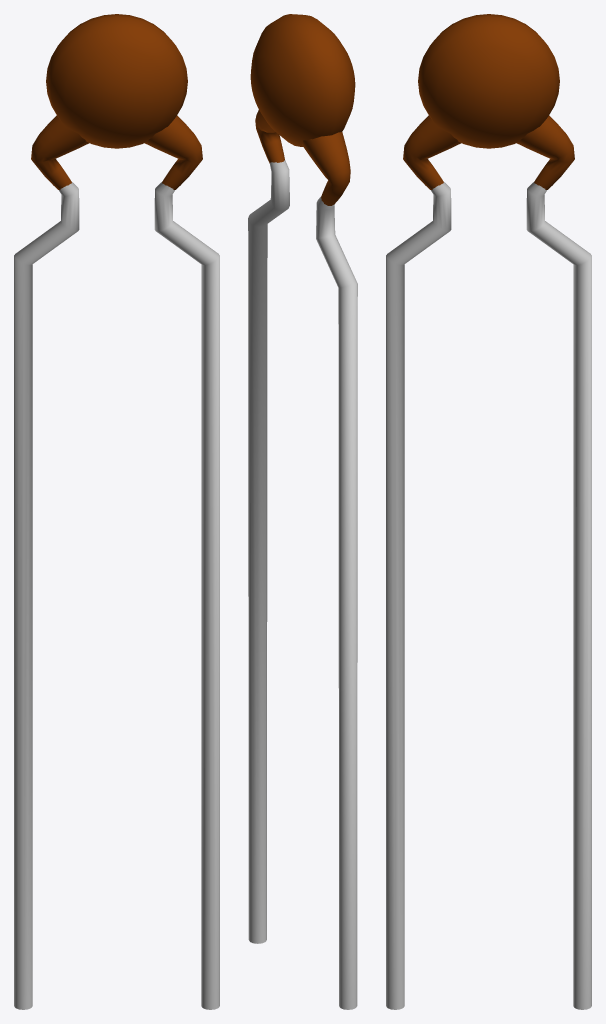
The model's file is capacitor_non_polarised.glb.
The picture shows the model from 3 angles, left to right: view 1: azimuth 90°, elevation 25°; view 2: azimuth 210°, elevation 25°; view 3: azimuth 270°, elevation 25°; orthographic projection. The views are drawn at different scales.
Parts seen in each view (by area): view 1: Legs.007, Capacitor-Ceramic, Transition; view 2: Legs.007, Capacitor-Ceramic, Transition; view 3: Legs.007, Capacitor-Ceramic, Transition.
Part boxes in pixels (<box>): Legs.007: <box>14,182,219,1009</box>; Capacitor-Ceramic: <box>46,14,187,148</box>; Transition: <box>31,115,202,189</box>; Legs.007: <box>248,160,357,1009</box>; Capacitor-Ceramic: <box>250,14,355,146</box>; Transition: <box>255,110,350,205</box>; Legs.007: <box>386,182,591,1009</box>; Capacitor-Ceramic: <box>418,14,559,148</box>; Transition: <box>403,115,574,189</box>.
Bounding box in the file's own units: 0.0027 × 0.0291 × 0.0055.
